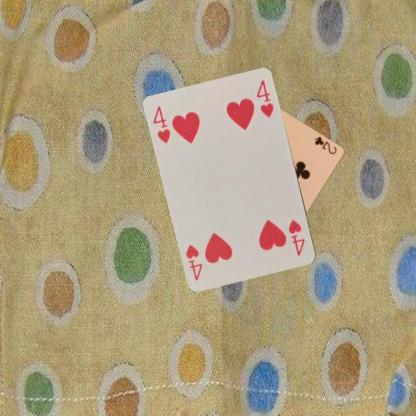2c: (312, 134, 338, 155)
4h: (285, 216, 307, 258), (151, 103, 172, 145)
